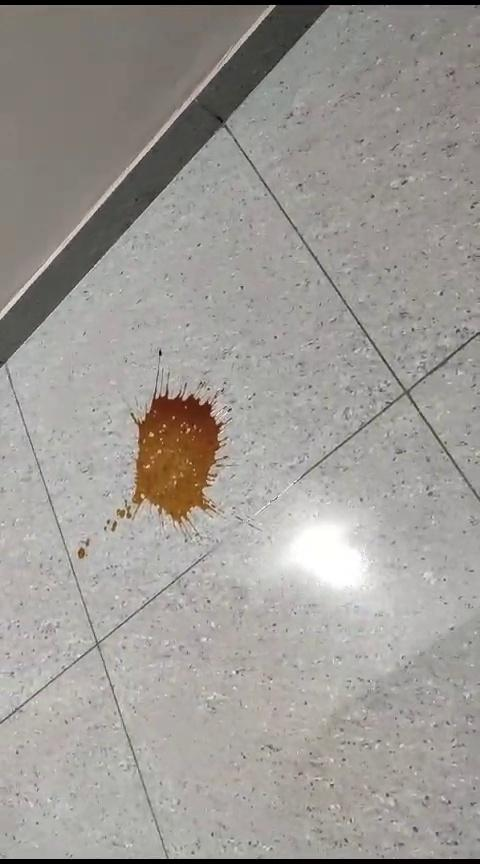dirty_floor: (79, 352, 228, 564)
